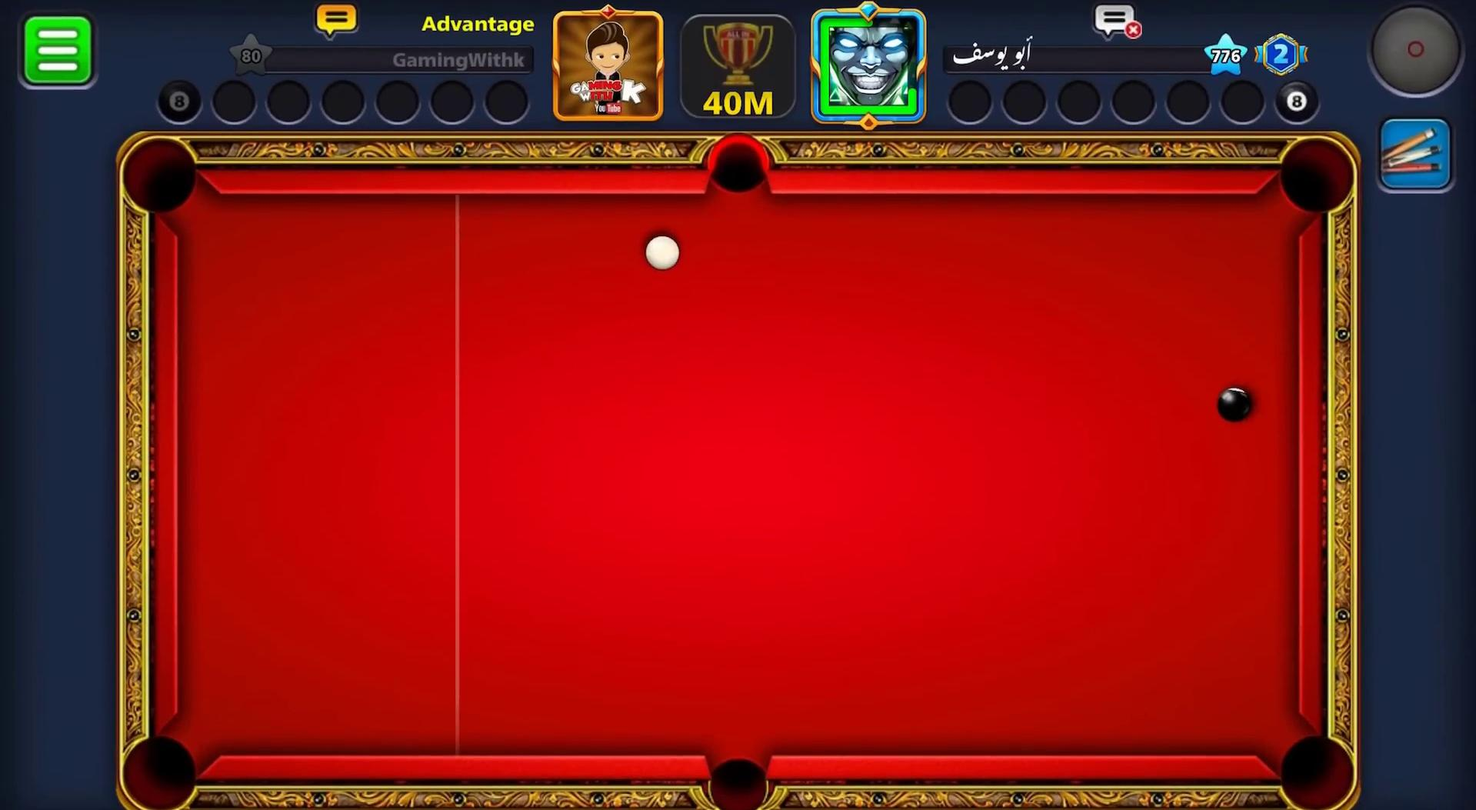Ball: (1211, 379, 1258, 428)
Hole: (698, 128, 779, 212), (1278, 136, 1355, 216), (122, 135, 199, 212), (1278, 734, 1355, 809), (122, 733, 198, 808), (705, 755, 771, 809)
Play_Area: (176, 195, 1294, 756)
Spin: (1364, 2, 1470, 103)
White: (633, 230, 684, 278)
